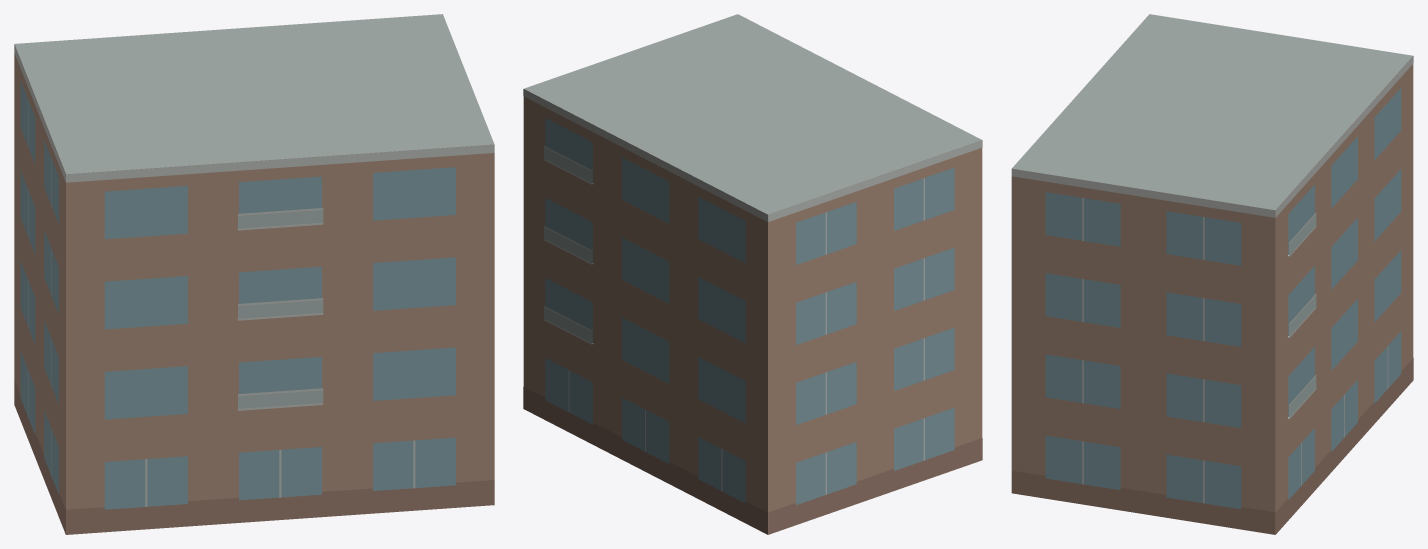
The model's file is survey-upis-33042436.glb.
3 renders of one model, left to right at view 1: azimuth 30°, elevation 25°; view 2: azimuth 150°, elevation 25°; view 3: azimuth 270°, elevation 25°, orthographic. The views are drawn at different scales.
Visible parts, largest first — view 1: survey-upis-33042436.tmp; view 2: survey-upis-33042436.tmp; view 3: survey-upis-33042436.tmp.
Part boxes in pixels (left/top/right/bottom): survey-upis-33042436.tmp: left=14, top=14, right=494, bottom=534; survey-upis-33042436.tmp: left=523, top=14, right=982, bottom=534; survey-upis-33042436.tmp: left=1011, top=14, right=1413, bottom=534.
Size of the model in its own units: 13.5 by 10.4 by 11.68.
